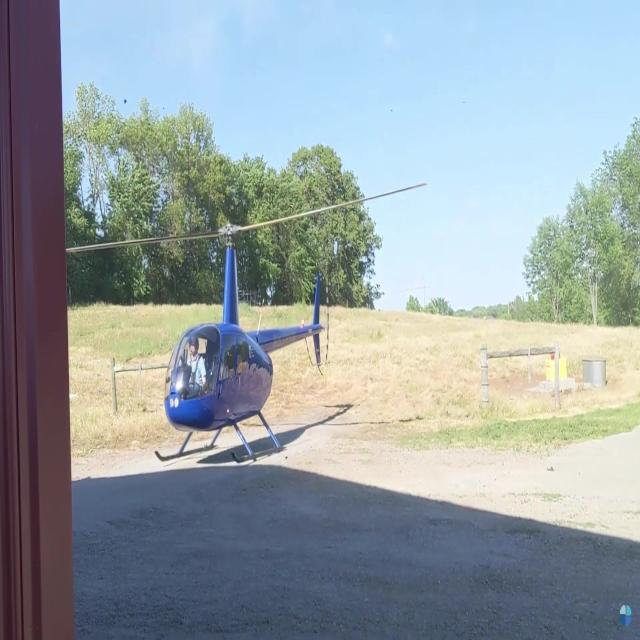CIV_HELO: (153, 221, 324, 466)
